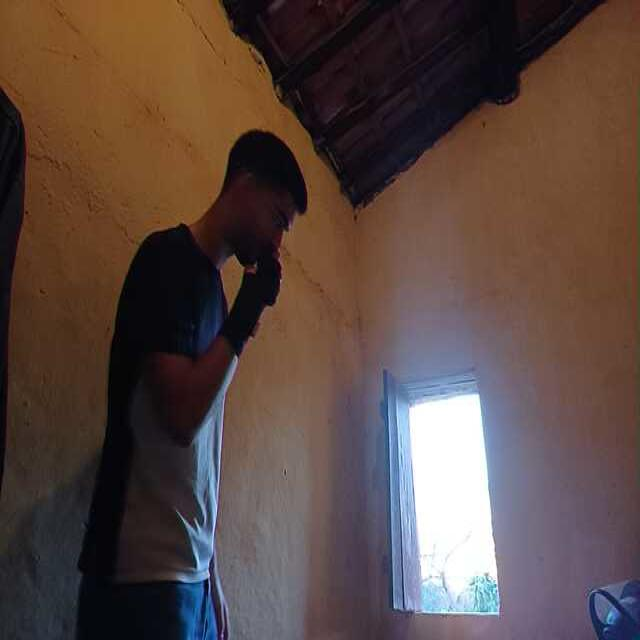capacete: (581, 574, 640, 639)
pessoa: (114, 132, 306, 635)
